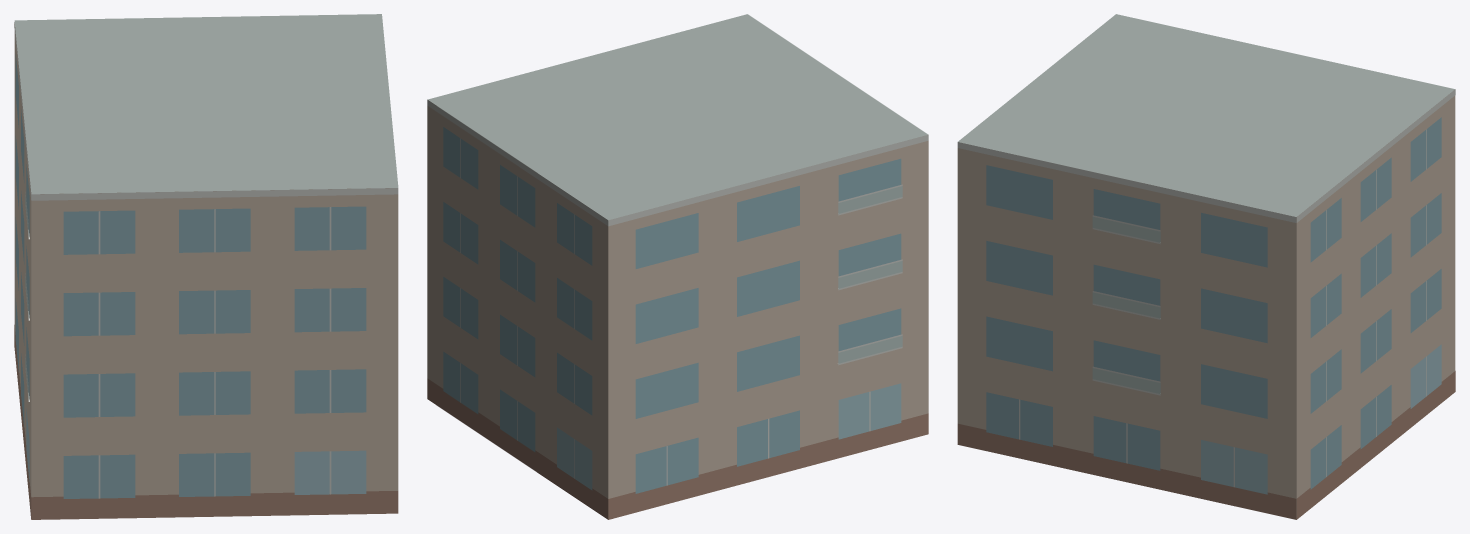
File: residential-087cfe41-8a34-4367-81d8-a5d2e6bae737.glb
3 views of the same model, side by side, from view 1: azimuth 30°, elevation 25°; view 2: azimuth 150°, elevation 25°; view 3: azimuth 270°, elevation 25° (orthographic). The views are drawn at different scales.
Parts seen in each view (by area): view 1: residential-087cfe41-8a34-4367-81d8-a5d2e6bae737.tmp; view 2: residential-087cfe41-8a34-4367-81d8-a5d2e6bae737.tmp; view 3: residential-087cfe41-8a34-4367-81d8-a5d2e6bae737.tmp.
Part boxes in pixels (x1,y1,x2,y2): residential-087cfe41-8a34-4367-81d8-a5d2e6bae737.tmp: (14,14,398,519); residential-087cfe41-8a34-4367-81d8-a5d2e6bae737.tmp: (427,14,928,519); residential-087cfe41-8a34-4367-81d8-a5d2e6bae737.tmp: (957,14,1455,519).
Size of the model in its own units: 17.56 by 12.2 by 18.19.
